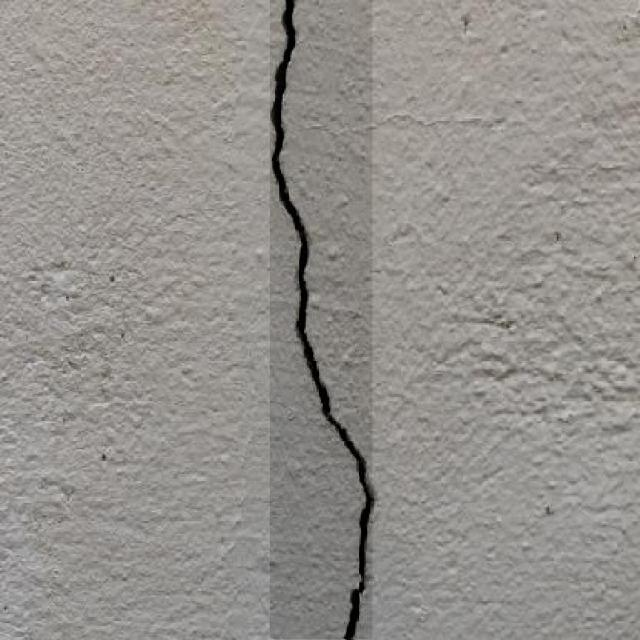vertical crack: (270, 0, 372, 639)
